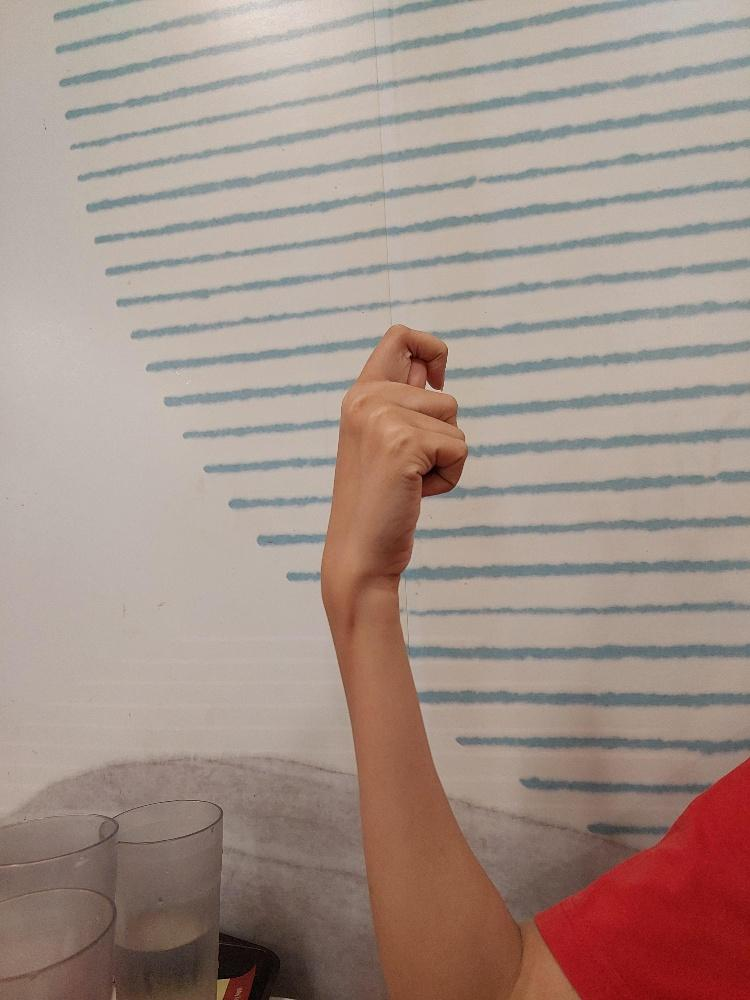t: (325, 320, 471, 584)
